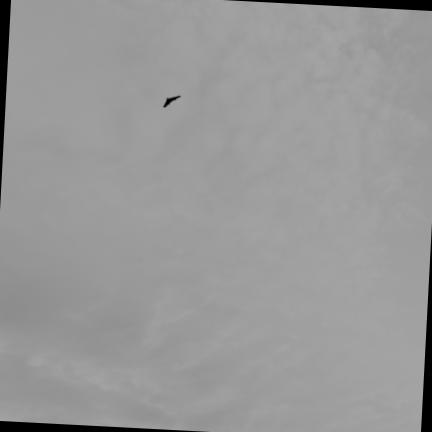Shahed: (164, 96, 181, 107)
